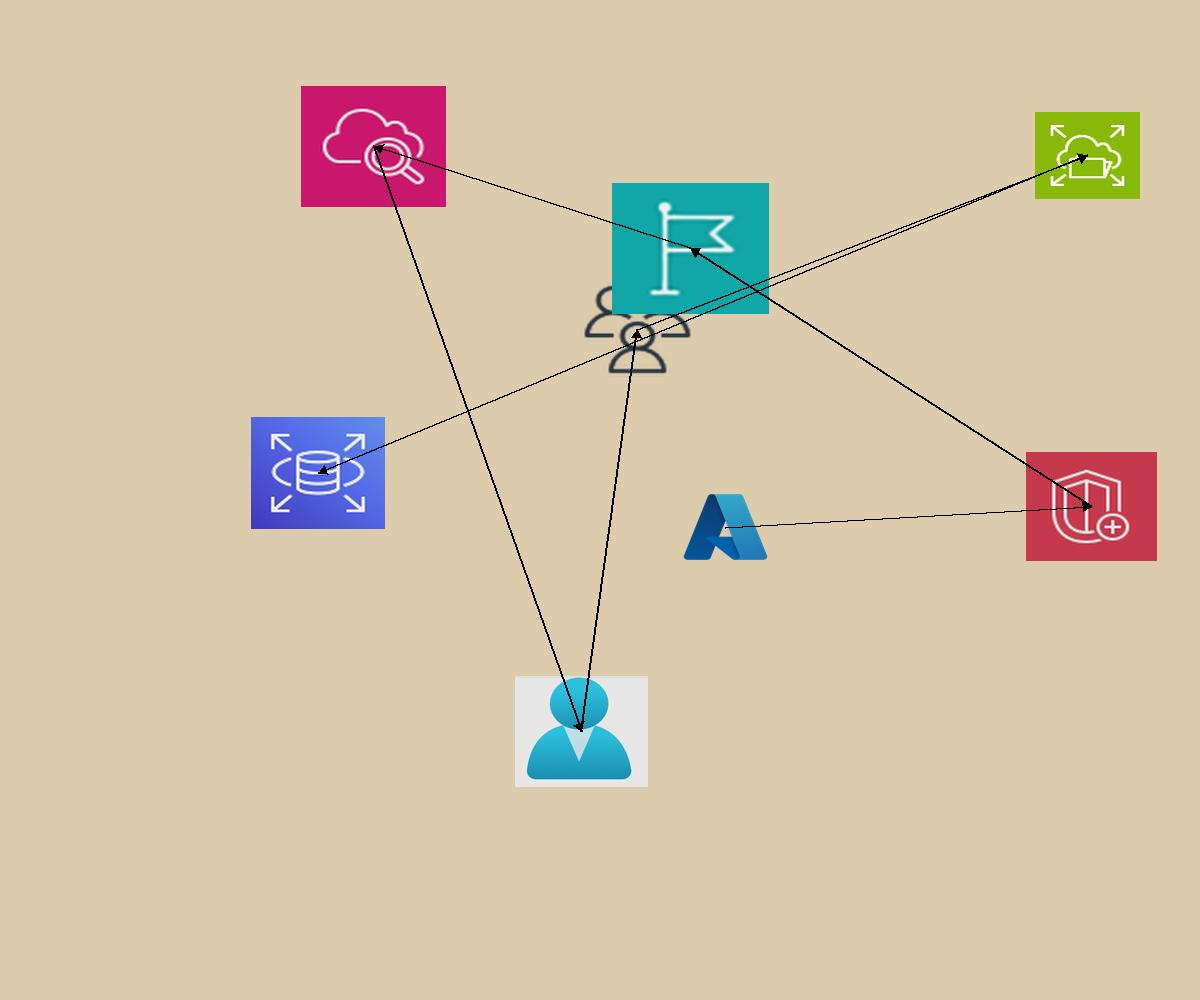AWS-CloudWatch: (301, 86, 446, 207)
AWS-EFS: (1035, 112, 1140, 199)
AWS-RDS: (251, 417, 385, 529)
AWS-Region: (612, 183, 769, 314)
AWS-Res_Users: (580, 282, 695, 377)
AWS-Shield: (1026, 452, 1157, 561)
Azure_services: (680, 489, 771, 565)
Azure_users: (515, 676, 648, 787)
